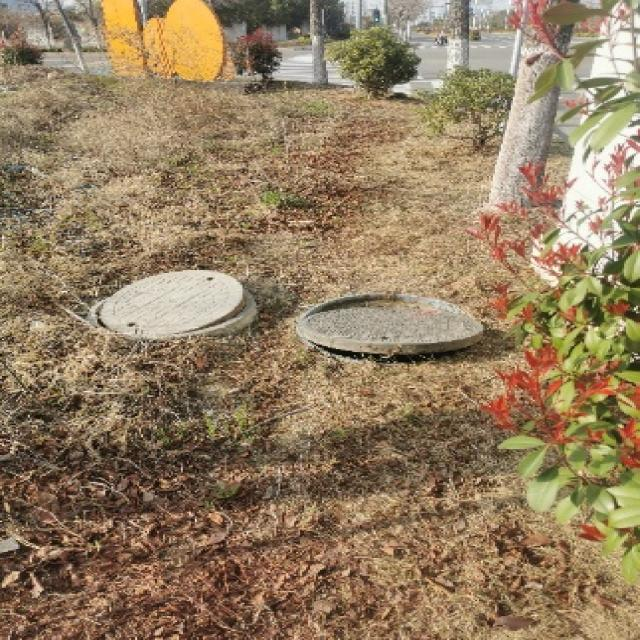Faulty: (54, 254, 272, 356), (290, 284, 497, 369)
